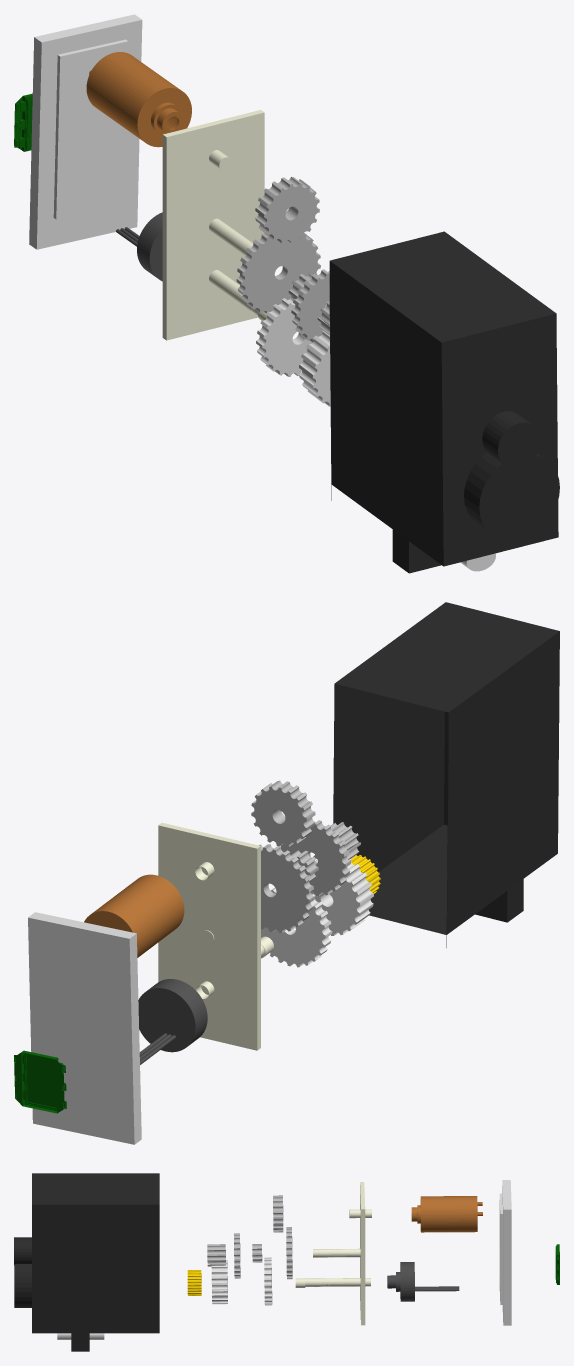
The model's file is ServoComponentssFlipFaces.fbx.
3 views of the same model, one above another, from view 1: azimuth 30°, elevation 25°; view 2: azimuth 150°, elevation 25°; view 3: azimuth 270°, elevation 25° (orthographic). The views are drawn at different scales.
Visible parts, largest first — view 1: Cylinder.001, ServoControlUnity, ServoGearStand, ServoDcMotor, ServoGear9, ServoGear8.001, ServoGear6.001, Cylinder.002, ServoGear4, ServoGear3.001, ServoPotentiometer, ServoCircuit; view 2: Cylinder.001, ServoControlUnity, ServoGearStand, Cylinder.002, ServoDcMotor, ServoPotentiometer, ServoGear9, ServoGear8.001, ServoCircuit, ServoGear6.001, ServoGear4, ServoGear3.001; view 3: Cylinder.001, ServoDcMotor, ServoGearStand, ServoControlUnity, ServoPotentiometer, ServoGear3.001, Cylinder.002, ServoGear2.001, ServoGear8.001, ServoGear6.001, ServoGear1.001, ServoGear9 (+1 smaller).
Part boxes in pixels (box(x1,y1,x2,y2)): Cylinder.001: box(329, 231, 559, 573); ServoControlUnity: box(29, 14, 142, 249); ServoGearStand: box(162, 110, 266, 340); ServoDcMotor: box(86, 52, 191, 147); ServoGear9: box(236, 232, 320, 313); ServoGear8.001: box(255, 176, 319, 243); ServoGear6.001: box(256, 295, 325, 376); Cylinder.002: box(392, 411, 558, 572); ServoGear4: box(291, 269, 329, 342); ServoGear3.001: box(299, 330, 330, 406); ServoPotentiometer: box(116, 212, 162, 281); ServoCircuit: box(14, 93, 32, 151); Cylinder.001: box(333, 602, 559, 947); ServoControlUnity: box(28, 912, 141, 1144); ServoGearStand: box(158, 822, 273, 1050); Cylinder.002: box(333, 685, 523, 945); ServoDcMotor: box(84, 874, 184, 957); ServoPotentiometer: box(138, 979, 207, 1064); ServoGear9: box(259, 844, 314, 932); ServoGear8.001: box(251, 780, 315, 847); ServoCircuit: box(14, 1050, 66, 1113); ServoGear6.001: box(261, 888, 332, 967); ServoGear4: box(280, 820, 350, 895); ServoGear3.001: box(311, 859, 373, 935); Cylinder.001: box(14, 1173, 159, 1351); ServoDcMotor: box(411, 1196, 482, 1232); ServoGearStand: box(295, 1182, 371, 1325); ServoControlUnity: box(499, 1180, 511, 1325); ServoPotentiometer: box(387, 1262, 459, 1301); ServoGear3.001: box(211, 1260, 228, 1304); Cylinder.002: box(14, 1238, 88, 1351); ServoGear2.001: box(207, 1244, 225, 1266); ServoGear8.001: box(273, 1195, 283, 1232); ServoGear6.001: box(264, 1257, 272, 1305); ServoGear1.001: box(187, 1270, 201, 1295); ServoGear9: box(286, 1227, 292, 1279).
Bounding box in the file's own units: 1359 × 2899 × 9648.
